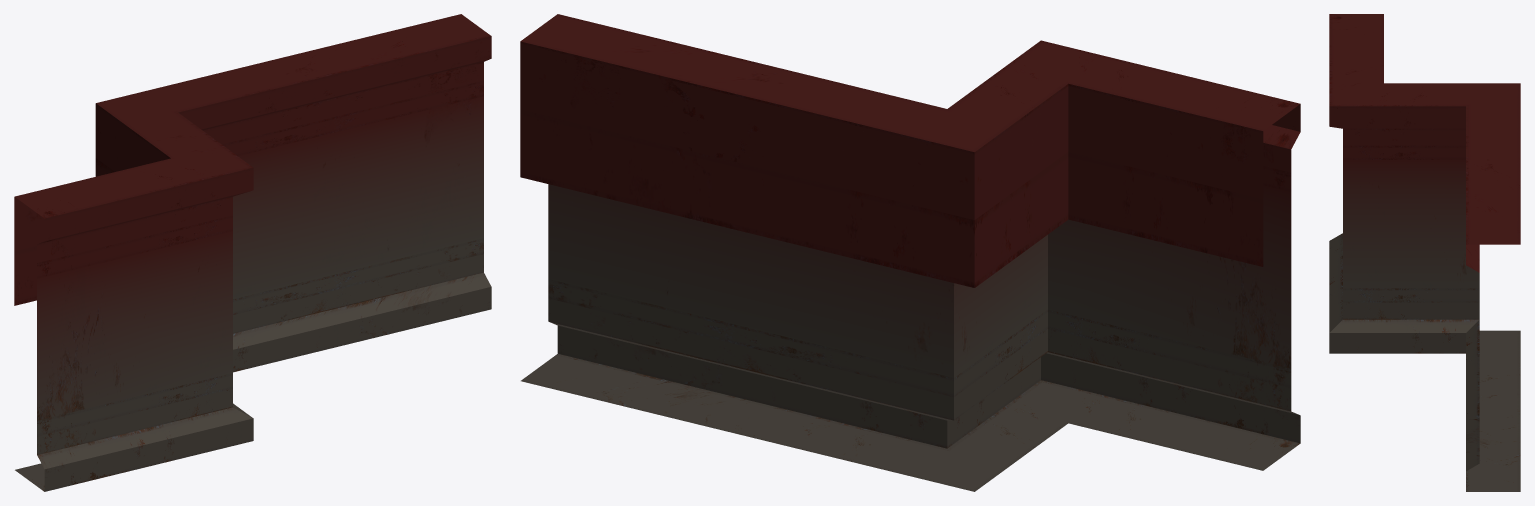
The model's file is Cornice_Metal_90Angle_L.gltf.
3 views of the same model, side by side, from view 1: azimuth 30°, elevation 25°; view 2: azimuth 150°, elevation 25°; view 3: azimuth 270°, elevation 25° (orthographic). The views are drawn at different scales.
Parts seen in each view (by area): view 1: Cornice_Metal_90Angle_L; view 2: Cornice_Metal_90Angle_L; view 3: Cornice_Metal_90Angle_L.
Part boxes in pixels (x1=…): Cornice_Metal_90Angle_L: x1=14, y1=14, x2=491, y2=491; Cornice_Metal_90Angle_L: x1=520, y1=14, x2=1300, y2=491; Cornice_Metal_90Angle_L: x1=1329, y1=14, x2=1520, y2=491.
Size of the model in its own units: 2 by 1 by 0.7.
1 material, 1 textured.
